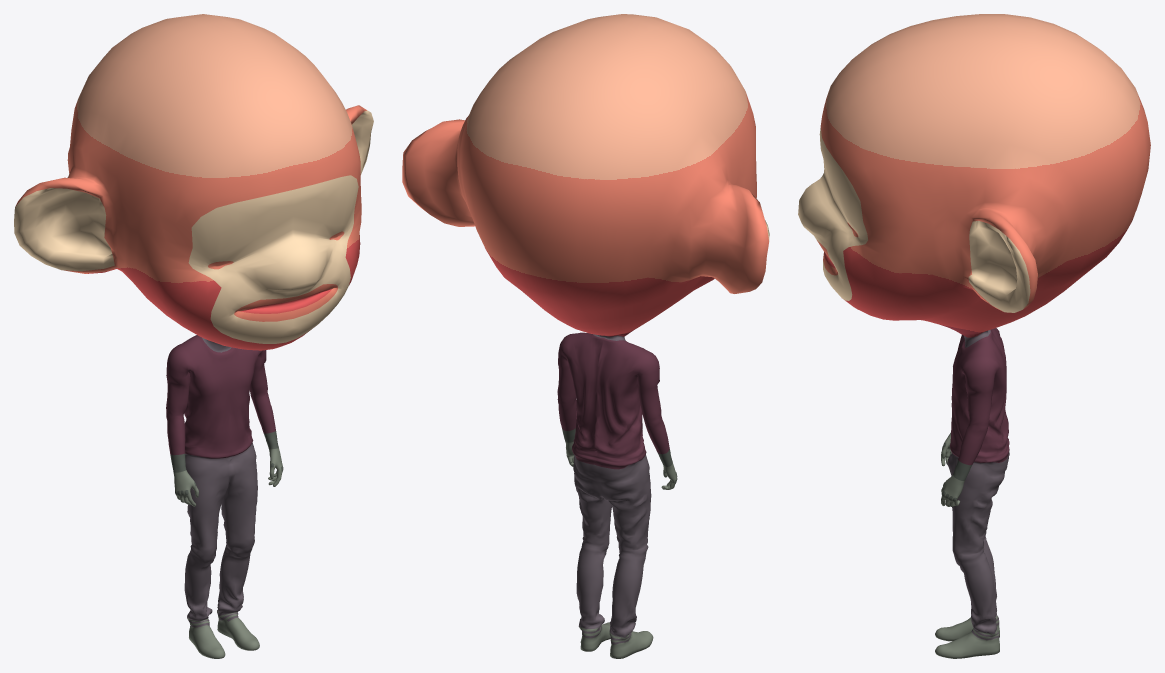
The model's file is floatingenemy.glb.
3 views of the same model, side by side, from view 1: azimuth 30°, elevation 25°; view 2: azimuth 150°, elevation 25°; view 3: azimuth 270°, elevation 25° (orthographic). The views are drawn at different scales.
Visible parts, largest first — view 1: high_Poly.mo.001; view 2: high_Poly.mo.001; view 3: high_Poly.mo.001.
Boxes of the visible parts, left/top/right/bottom form: high_Poly.mo.001: left=14, top=14, right=373, bottom=658; high_Poly.mo.001: left=402, top=14, right=769, bottom=658; high_Poly.mo.001: left=798, top=14, right=1150, bottom=658.
Bounding box in the file's own units: 0.823 × 1.33 × 0.6855.
Materials: 1 (1 with a texture image).
